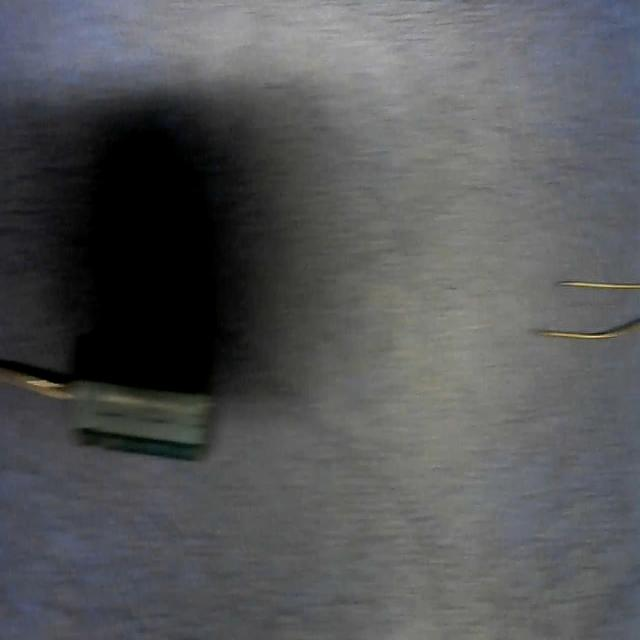capacitor: (49, 341, 221, 459)
